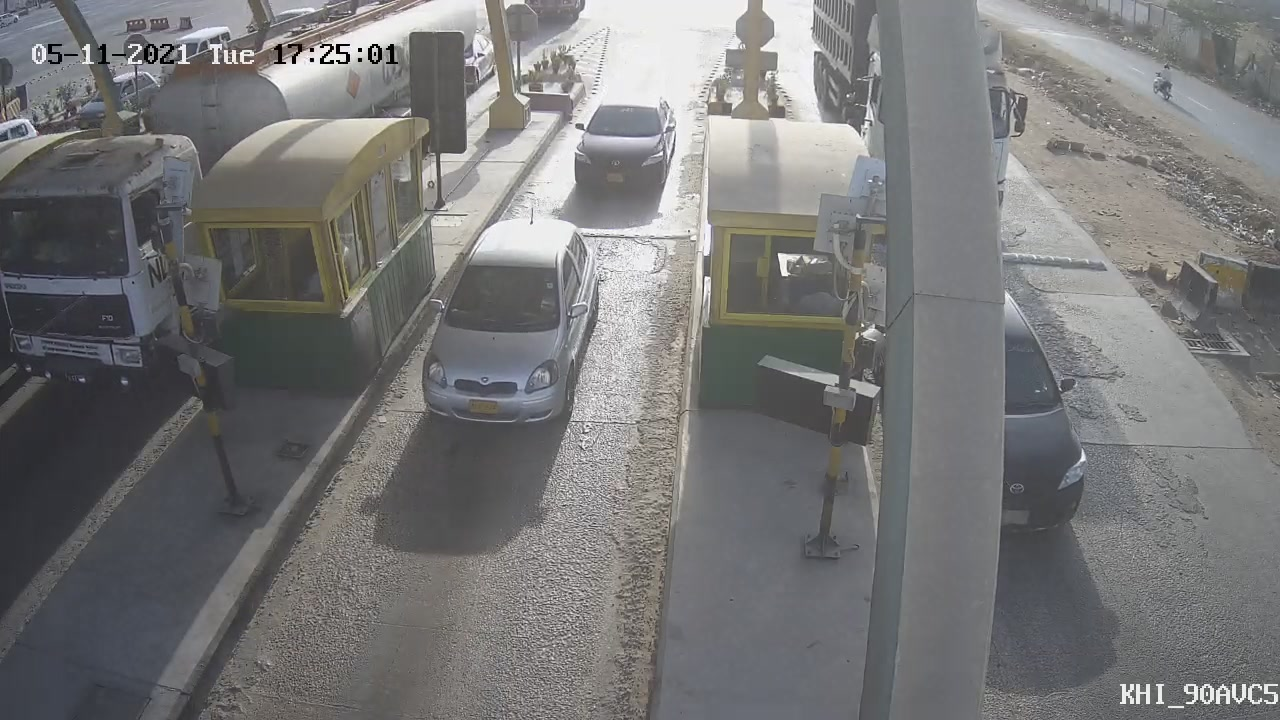F1: (405, 194, 625, 456), (553, 79, 692, 210)
